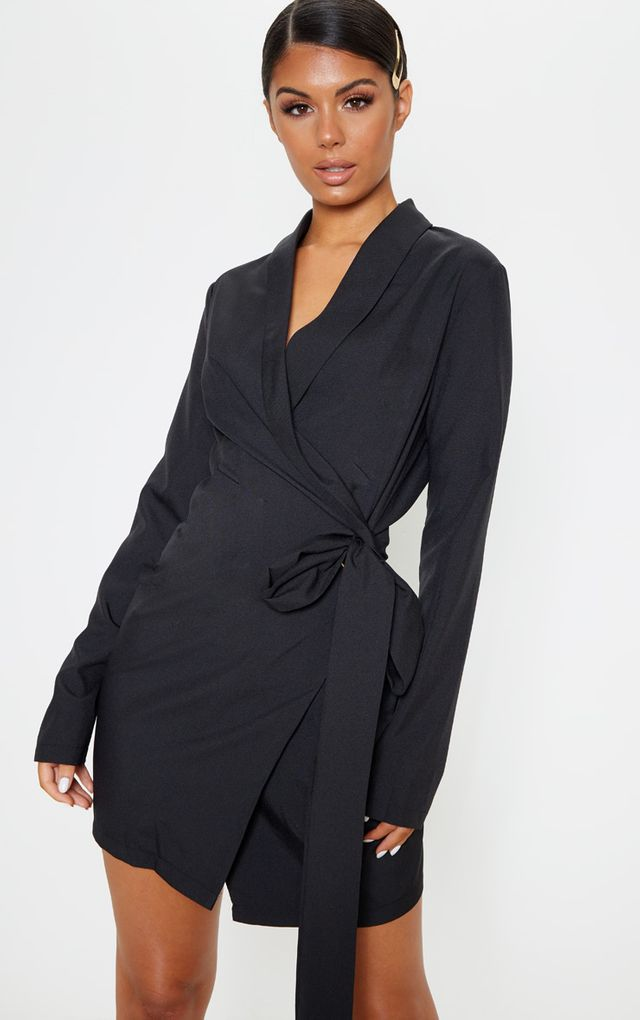C_dress: (45, 206, 485, 906)
